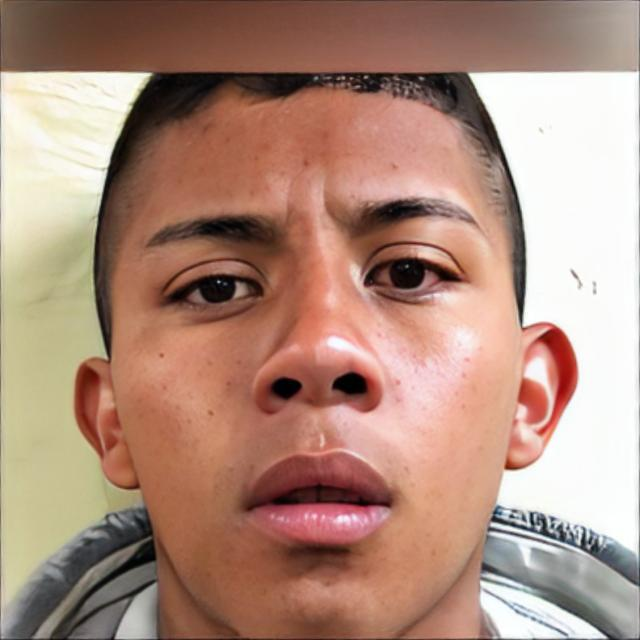anger: (115, 76, 522, 640)
